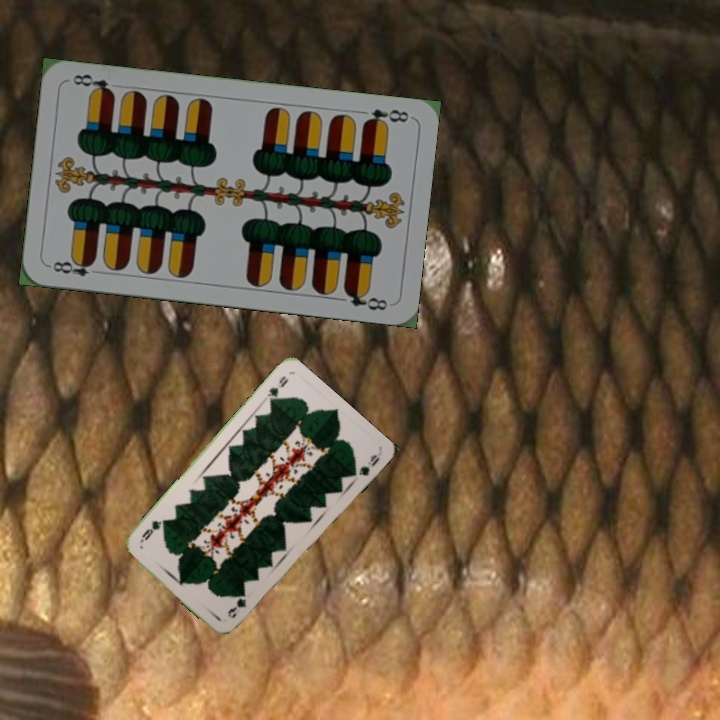E8: (45, 254, 97, 279), (359, 105, 411, 130)
G9: (263, 372, 291, 407), (223, 595, 249, 621)
